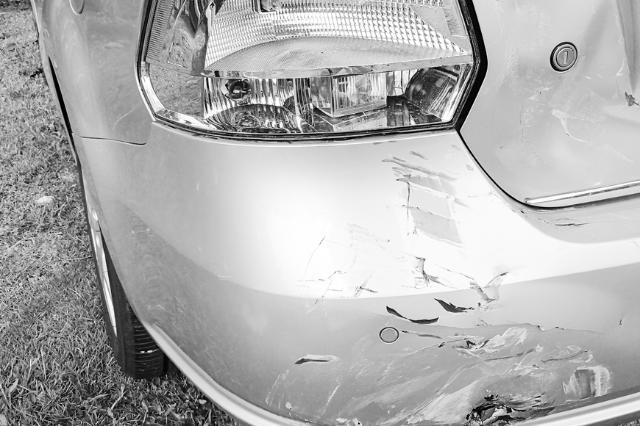Bumper: (150, 135, 640, 426)
Dickey: (513, 1, 640, 110)
Light: (152, 0, 468, 129)
